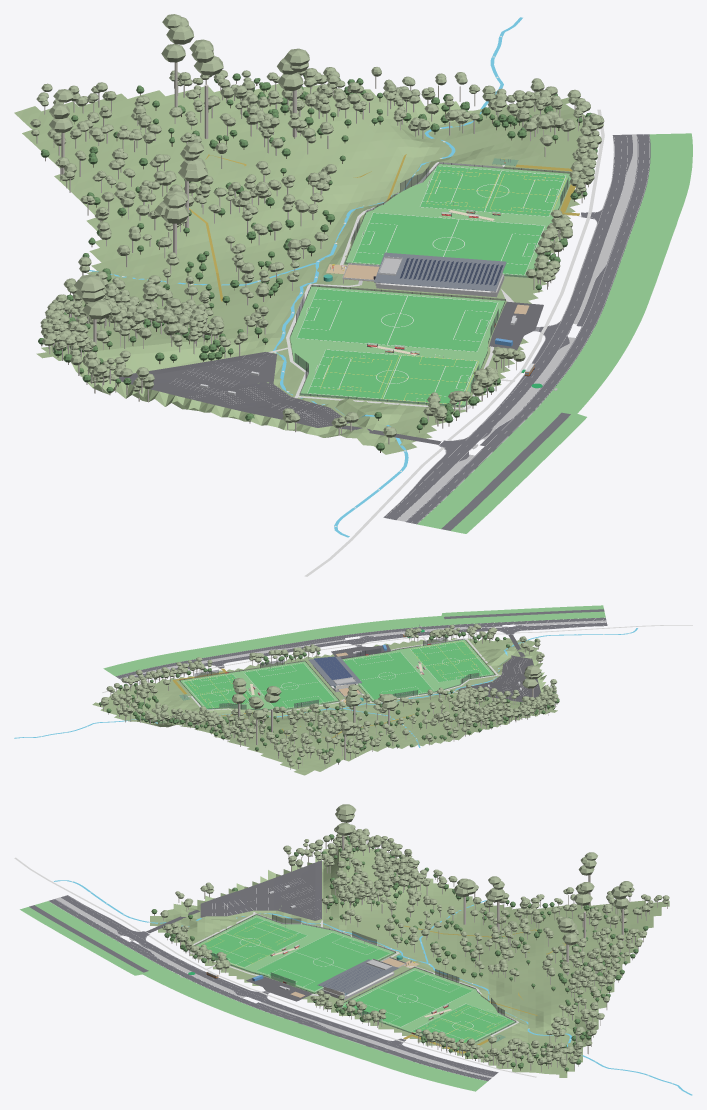
The model's file is KHFR_stage4_winter.glb.
3 renders of one model, top to bottom at view 1: azimuth 30°, elevation 25°; view 2: azimuth 150°, elevation 25°; view 3: azimuth 270°, elevation 25°, orthographic. The views are drawn at different scales.
Visible parts, largest first — view 1: Reserve terrain, Bushland forest (euc_can), Road reserve (far verge), Bush planting zones (euc_can), Pitch 2, Pitch 3, New car park (~220), Swansea Rd NE-bound (surveyed both edges), Pitch 1, Giant eucalypts (canopies), Pitch 4, Swansea Rd SW-bound (2 lanes, smooth) (+19 smaller); view 2: Reserve terrain, Bushland forest (euc_can), Road reserve (far verge), Bush planting zones (euc_can), Pitch 2, Pitch 3, Pitch 1, Giant eucalypts (canopies), Swansea Rd SW-bound (2 lanes, smooth), Tennis precinct bush retained (euc_can), Swansea Rd NE-bound (surveyed both edges), New car park (~220) (+15 smaller); view 3: Reserve terrain, Bushland forest (euc_can), Road reserve (far verge), Bush planting zones (euc_can), New car park (~220), Pitch 2, Pitch 3, Swansea Rd NE-bound (surveyed both edges), Giant eucalypts (canopies), Pitch 1, Tennis precinct bush retained (euc_can), Swansea Rd SW-bound (2 lanes, smooth) (+16 smaller).
Boxes of the visible parts, x1,y1,x2,y2 form: Reserve terrain: (14,84,600,454); Bushland forest (euc_can): (30,70,396,437); Road reserve (far verge): (417,133,692,533); Bush planting zones (euc_can): (200,67,604,420); Pitch 2: (297,289,497,351); Pitch 3: (353,213,544,275); New car park (~220): (108,352,349,427); Swansea Rd NE-bound (surveyed both edges): (383,134,632,519); Pitch 1: (308,349,476,404); Giant eucalypts (canopies): (49,14,309,319); Pitch 4: (420,166,565,216); Swansea Rd SW-bound (2 lanes, smooth): (405,134,650,524); Reserve terrain: (92,638,557,775); Bushland forest (euc_can): (182,636,557,766); Road reserve (far verge): (103,605,605,676); Bush planting zones (euc_can): (100,624,497,738); Pitch 2: (343,652,433,699); Pitch 3: (244,663,335,707); Pitch 1: (411,641,490,681); Giant eucalypts (canopies): (232,665,541,735); Swansea Rd SW-bound (2 lanes, smooth): (116,617,606,678); Tennis precinct bush retained (euc_can): (452,686,559,724); Swansea Rd NE-bound (surveyed both edges): (121,622,607,683); New car park (~220): (458,655,540,702); Reserve terrain: (150,840,669,1077); Bushland forest (euc_can): (160,832,669,993); Road reserve (far verge): (20,901,487,1091); Bush planting zones (euc_can): (162,922,642,1067); New car park (~220): (200,860,321,920); Pitch 2: (256,932,389,991); Pitch 3: (343,970,472,1026); Swansea Rd NE-bound (surveyed both edges): (61,895,498,1076); Giant eucalypts (canopies): (335,804,633,945); Pitch 1: (199,917,307,967); Tennis precinct bush retained (euc_can): (296,824,414,903); Swansea Rd SW-bound (2 lanes, smooth): (49,899,491,1081).
Bounding box in the file's own units: 495 × 86.34 × 604.
